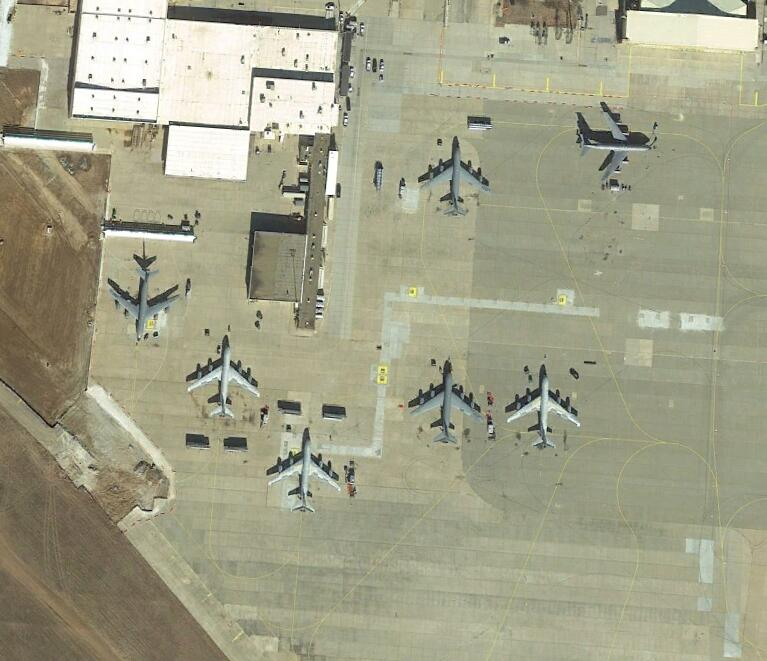A11: (185, 340, 263, 421), (267, 433, 344, 515), (506, 372, 582, 452)
A14: (408, 368, 485, 445), (107, 265, 183, 342), (576, 108, 651, 184), (421, 142, 494, 218)
